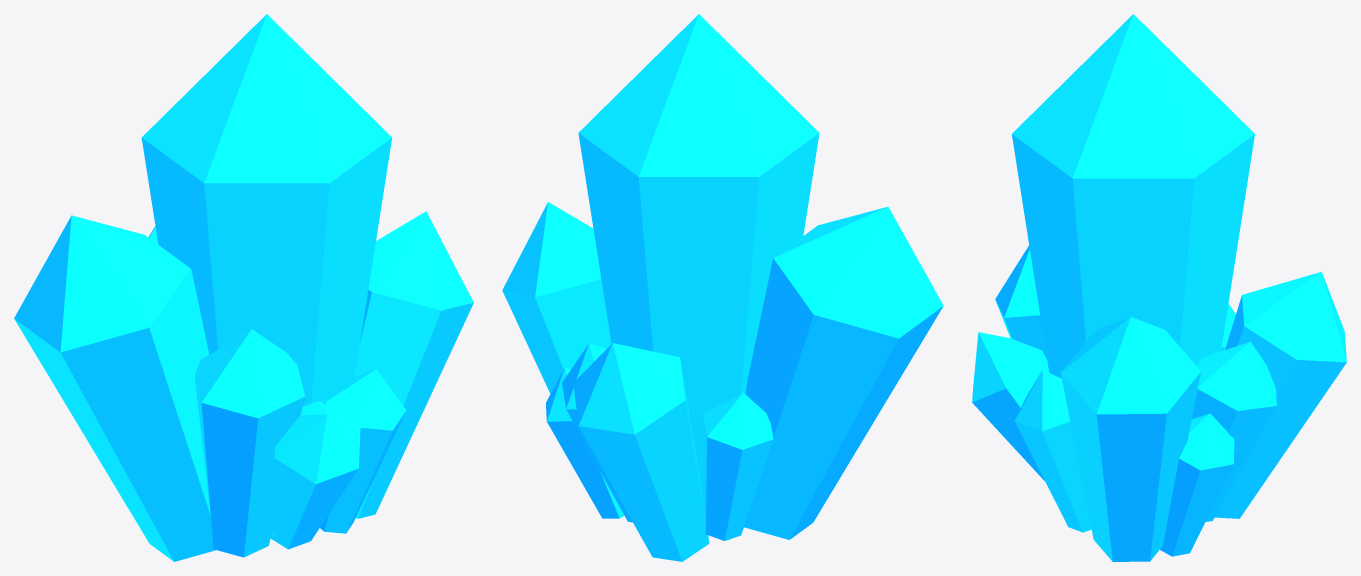
Rendered from Cristal2.fbx.
The picture shows the model from 3 angles, left to right: view 1: azimuth 30°, elevation 25°; view 2: azimuth 150°, elevation 25°; view 3: azimuth 270°, elevation 25°; orthographic projection. The views are drawn at different scales.
Visible parts, largest first — view 1: Cristal.003; view 2: Cristal.003; view 3: Cristal.003.
Part boxes in pixels (x1=…): Cristal.003: x1=14, y1=14, x2=473, y2=561; Cristal.003: x1=502, y1=14, x2=943, y2=561; Cristal.003: x1=972, y1=14, x2=1346, y2=561.
Bounding box in the file's own units: 588 × 703 × 470.
